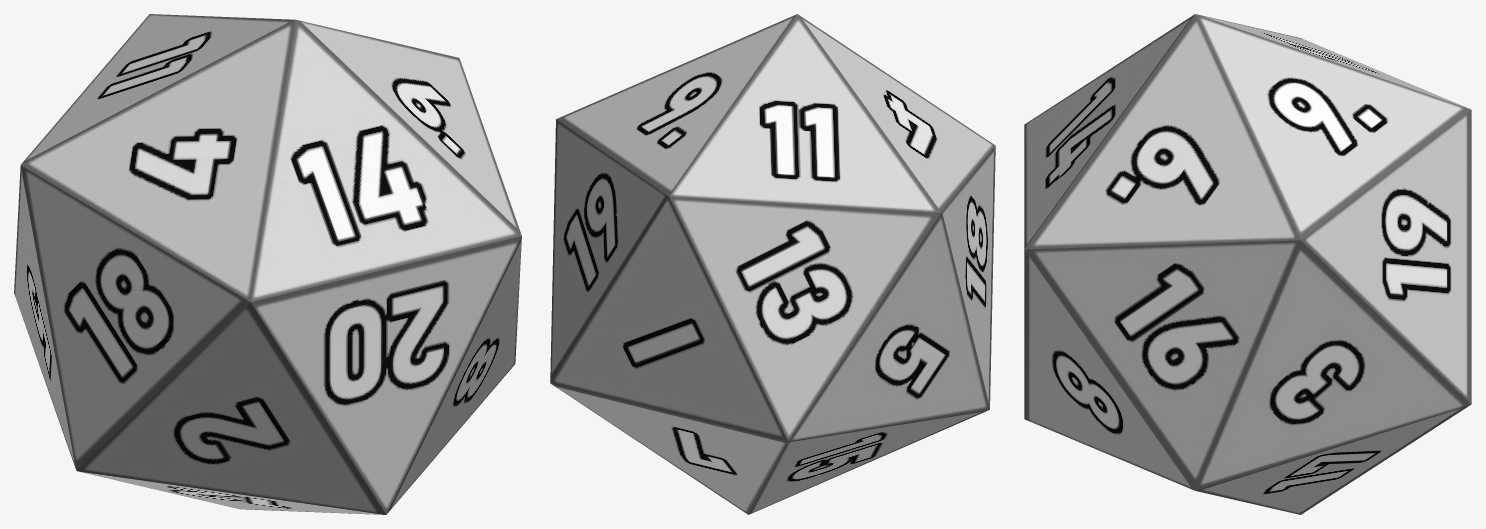
3 renders of one model, left to right at view 1: azimuth 30°, elevation 25°; view 2: azimuth 150°, elevation 25°; view 3: azimuth 270°, elevation 25°, orthographic. The views are drawn at different scales.
Visible parts, largest first — view 1: Hedra01; view 2: Hedra01; view 3: Hedra01.
Part boxes in pixels (x1,y1,x2,y2): Hedra01: [14, 14, 521, 514]; Hedra01: [550, 14, 995, 514]; Hedra01: [1024, 14, 1471, 514].
Bounding box in the file's own units: 0.288 × 0.3326 × 0.2691.
Materials: 1 (1 with a texture image).
